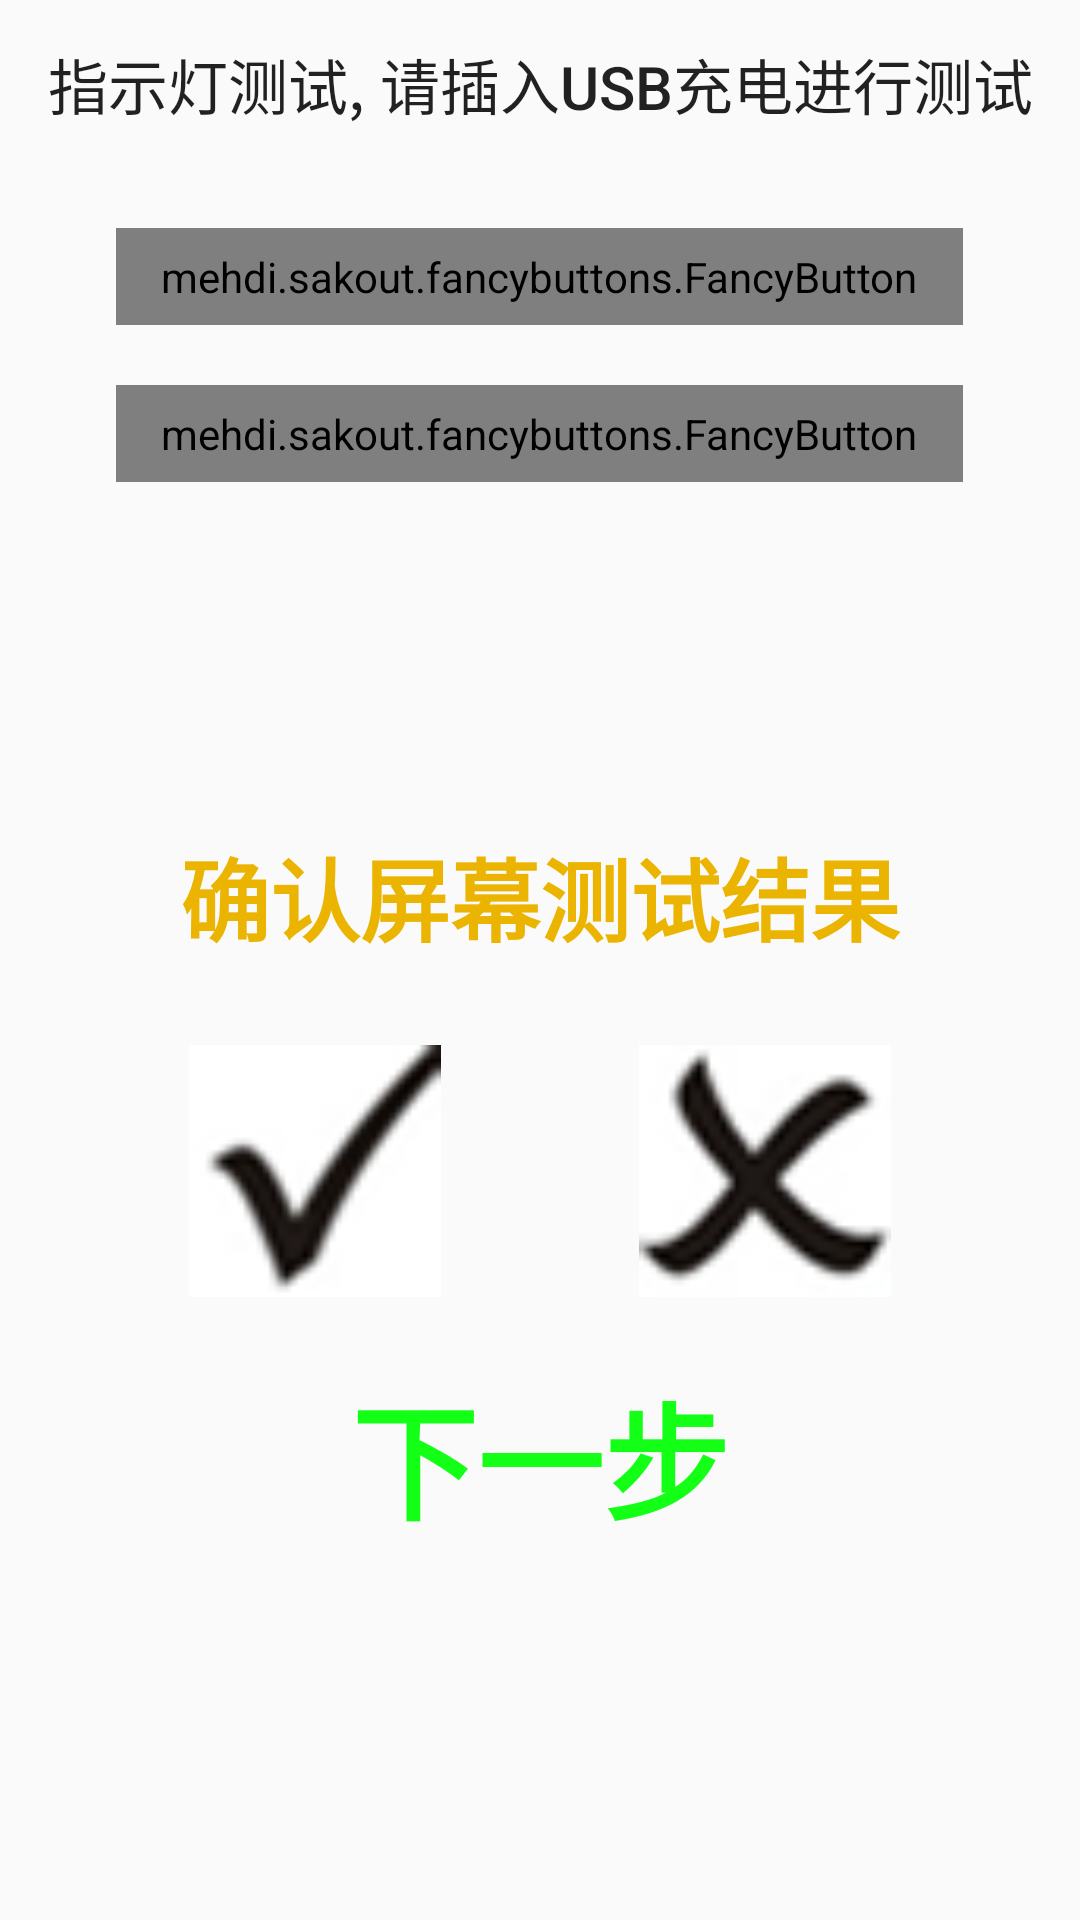

Icons on this 1080px x 1920px Android screen, each with the point to tap as (x,y):
check cross: (763,1167)
check ok: (325,1166)
